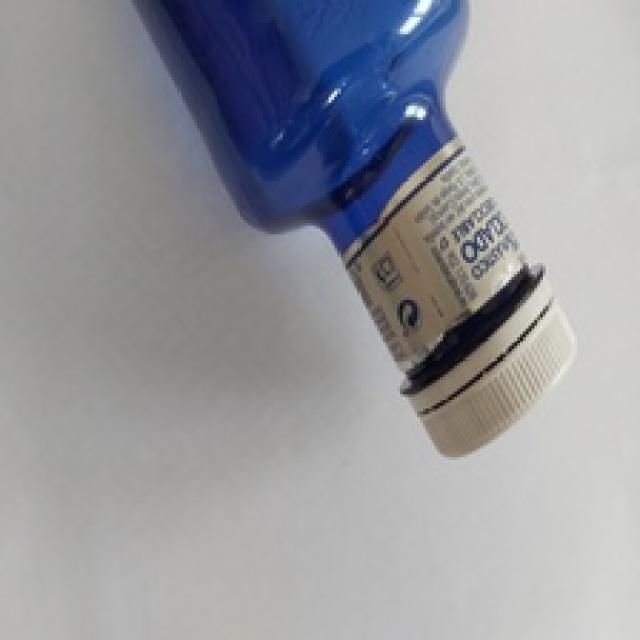Plastic: (122, 0, 579, 460)
